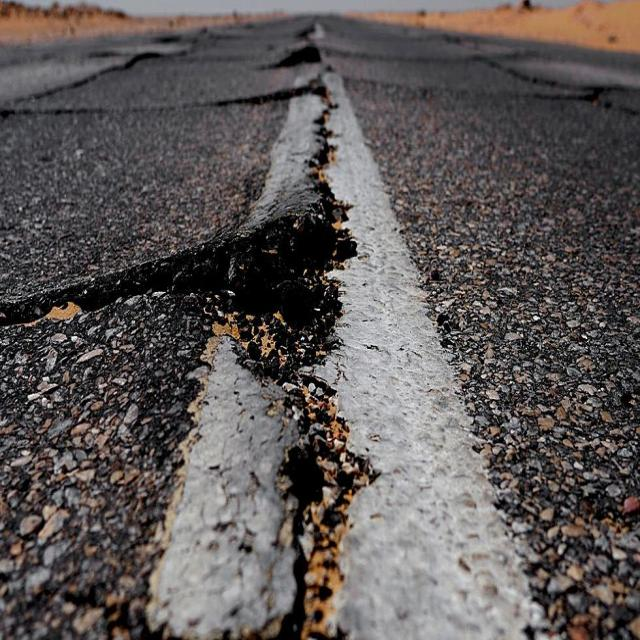Drain Hole: (265, 38, 398, 640)
